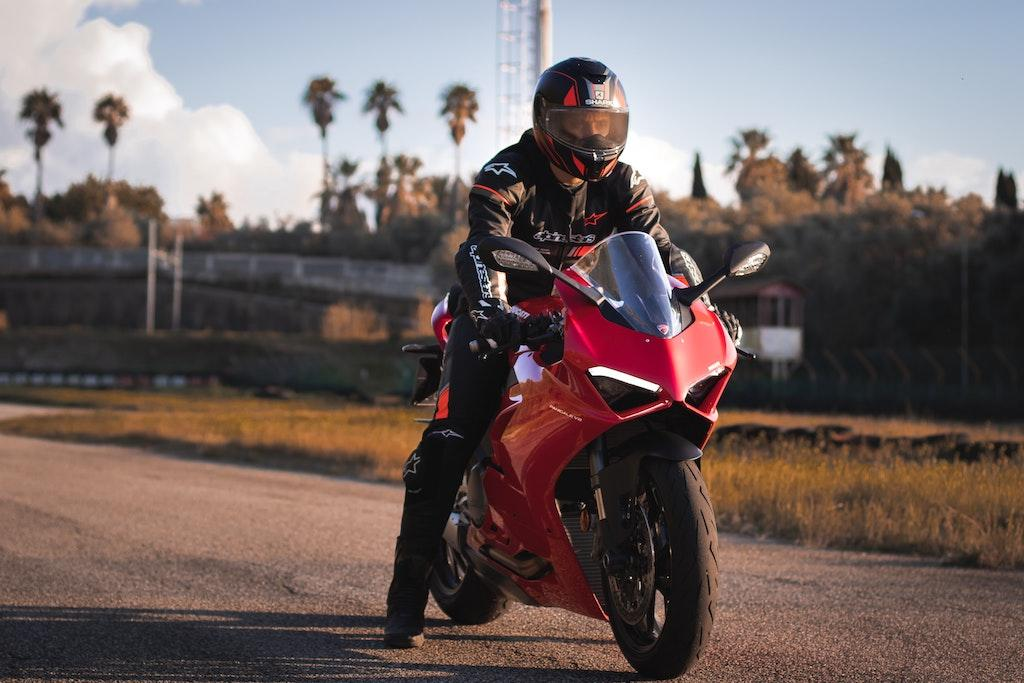helmet: (531, 55, 630, 184)
